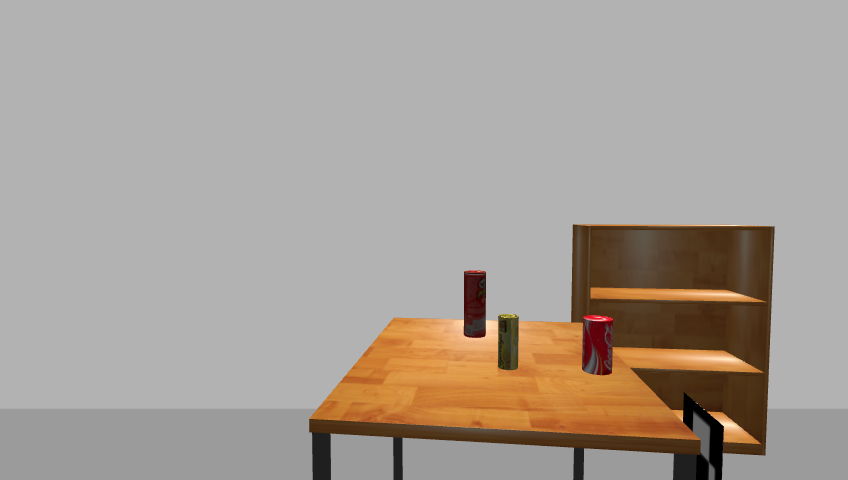aruco marker: (678, 393, 728, 480)
biscuits pack: (498, 314, 520, 372)
bookshelf: (568, 221, 781, 465)
coke can: (580, 316, 615, 376)
dinner table: (304, 316, 701, 480)
pringles can: (461, 270, 488, 339)
